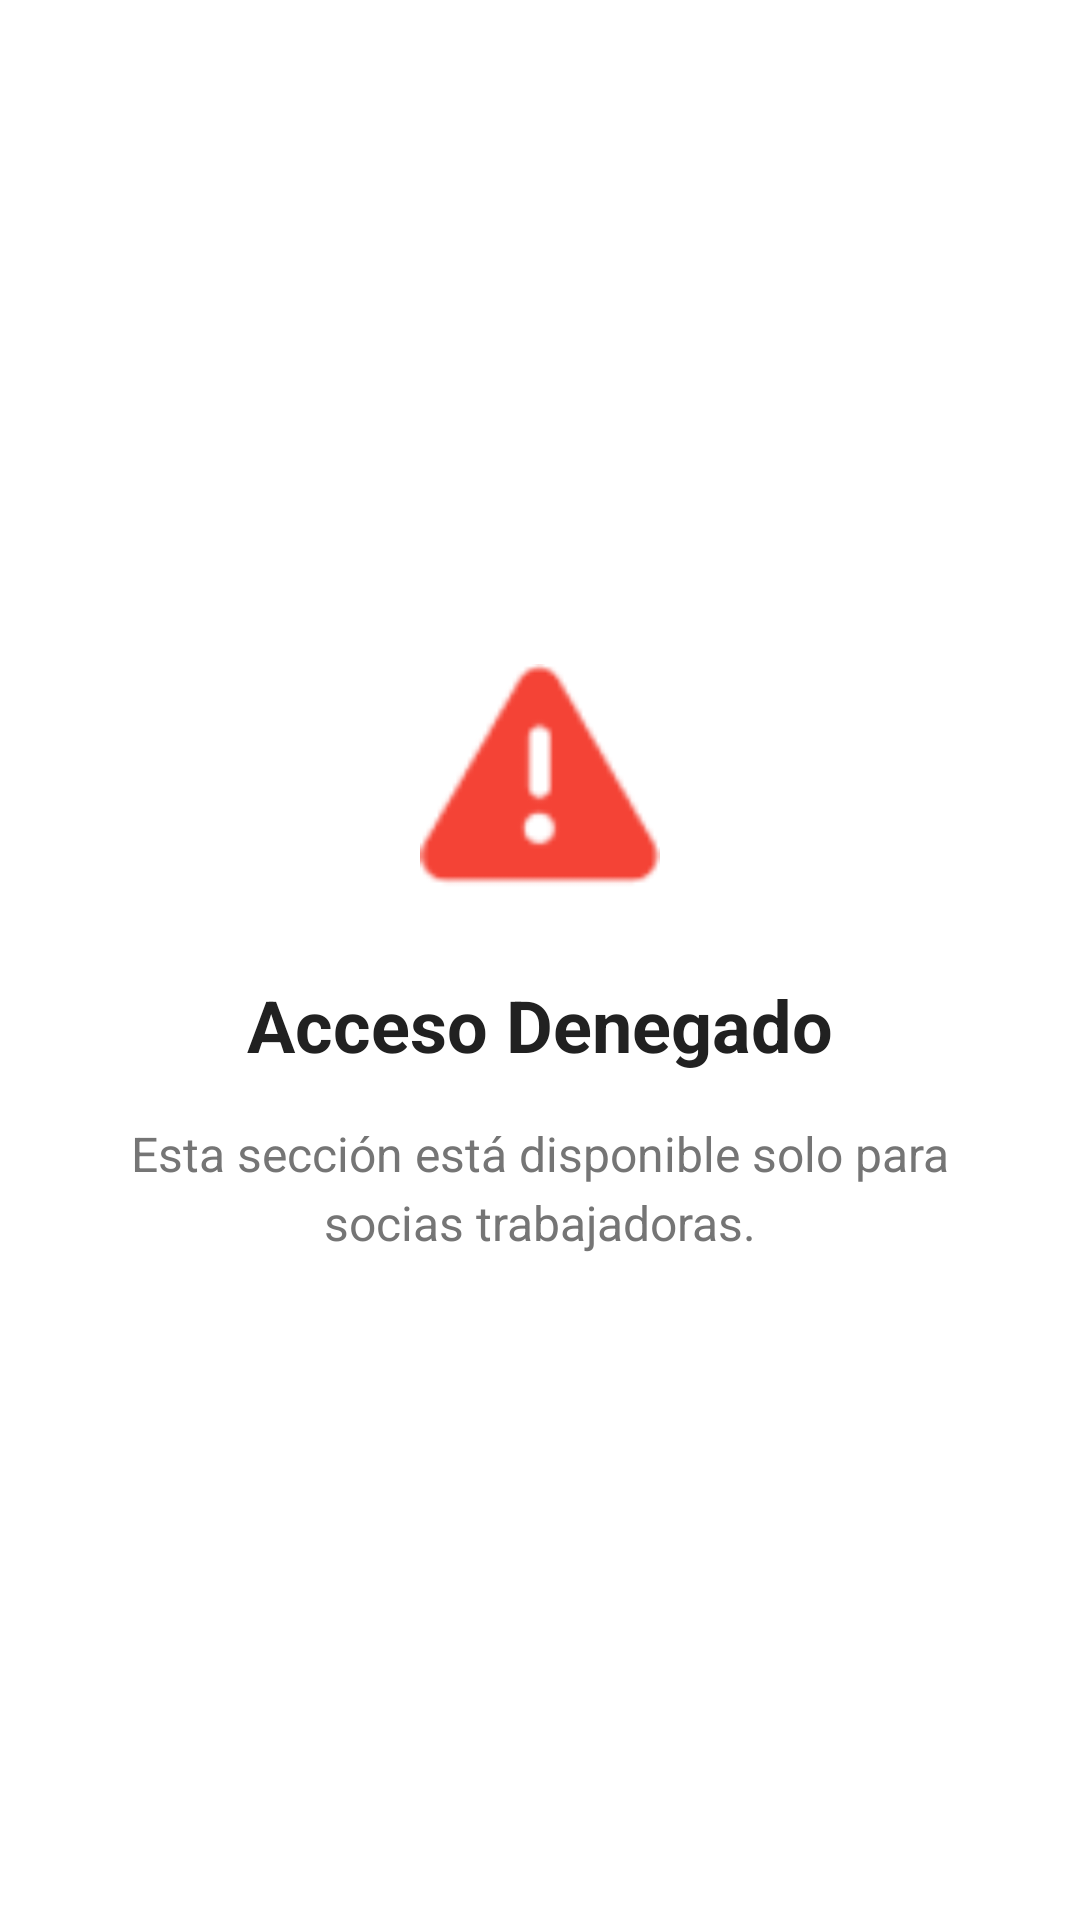

Screen size 1080x1920. Icon name, then its box in pixels as bbox=[x1, y1, x2, y2]:
alert: bbox=[420, 664, 660, 883]
